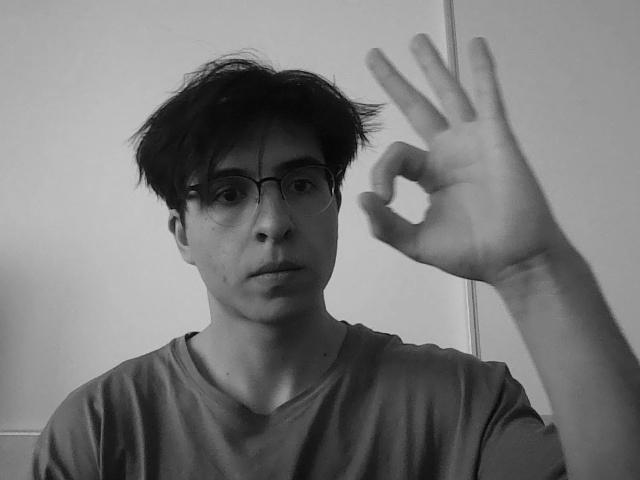OK: (355, 31, 560, 285)
